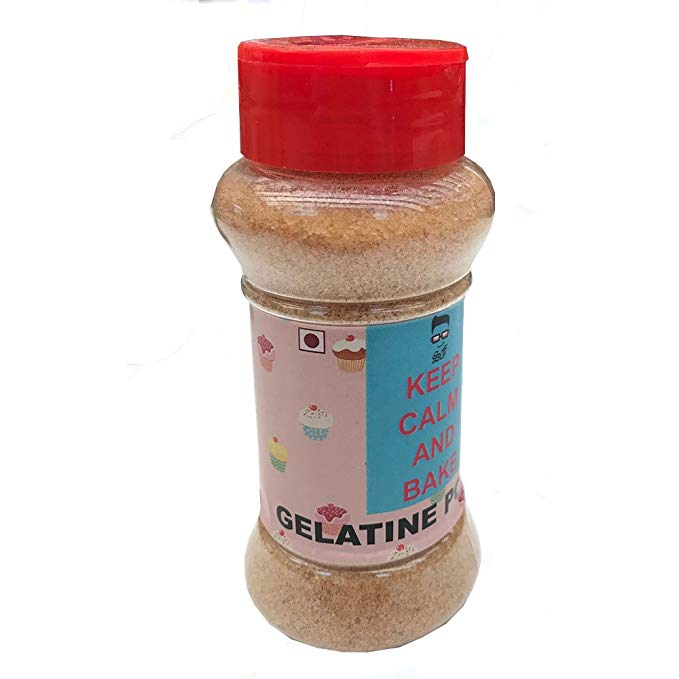nonveg_red: (297, 325, 328, 356)
